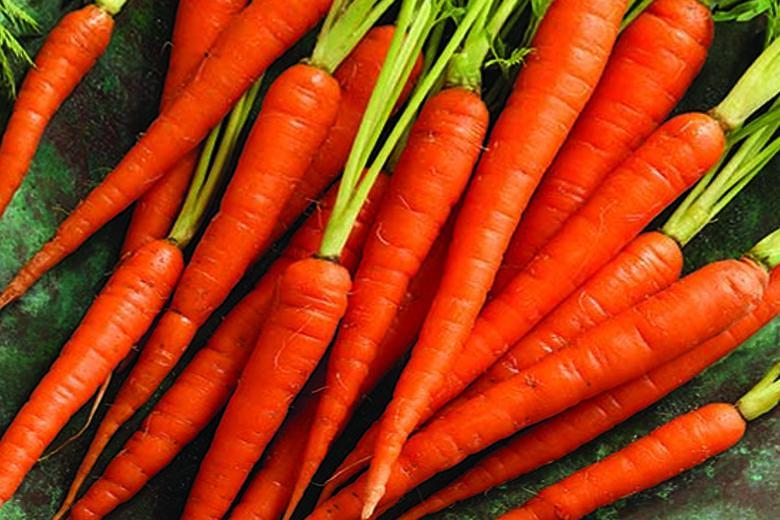carrot: (5, 10, 780, 507), (0, 0, 438, 341), (186, 242, 399, 520)
